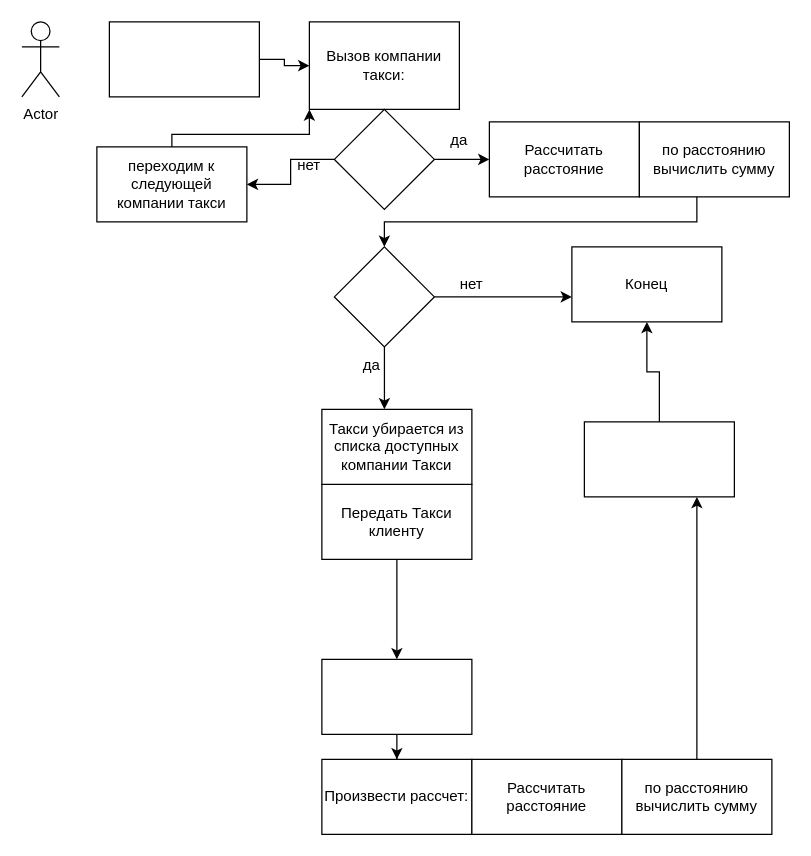
The diagram is 811 pixels wide and 856 high, and some of its shapes have lost their labels. The shapes that lost their labels are listed below. From the top down, each one's box as (x1, y1, x2, y2) in pixels, then its label:
(108, 21, 259, 97): создание маршрута From TO
(333, 108, 434, 209): Есть свободная машина?
(333, 246, 434, 347): Денег достаточно?
(583, 421, 734, 497): Такси возвращается компании Такси
(321, 658, 472, 734): Ехать
